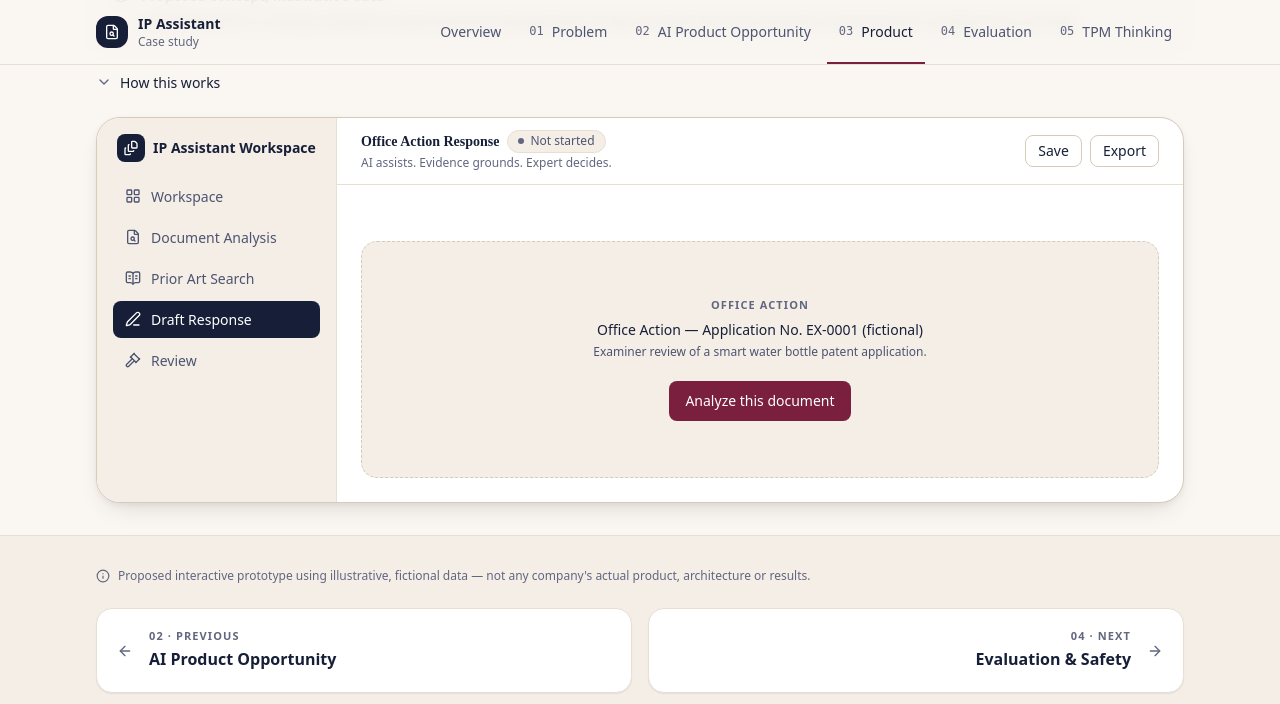
Test case: prototype state is shared across routes › runs the simulated pipeline to completion and reveals the evidence and draft
The image size is (1280, 704).
(page scrolled)
Click the button "Analyze this document".
click(760, 400)  # box [669,380,850,420]
Wait 3900 ms
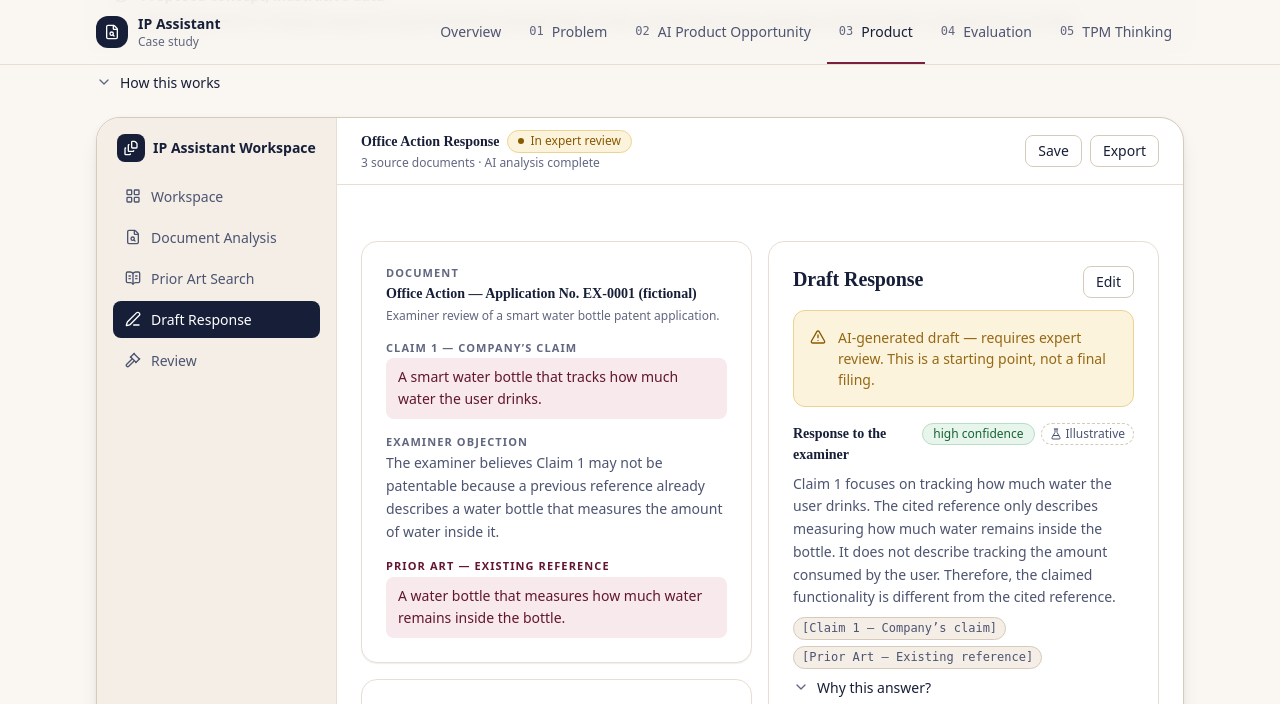
Expected: the text "AI processing" is shown, [507,130,632,153]
Expected: the heading "Draft Response" is shown, [793,266,923,292]
Expected: the text "3 source documents · AI analysis complete" is shown, [361,155,632,172]
